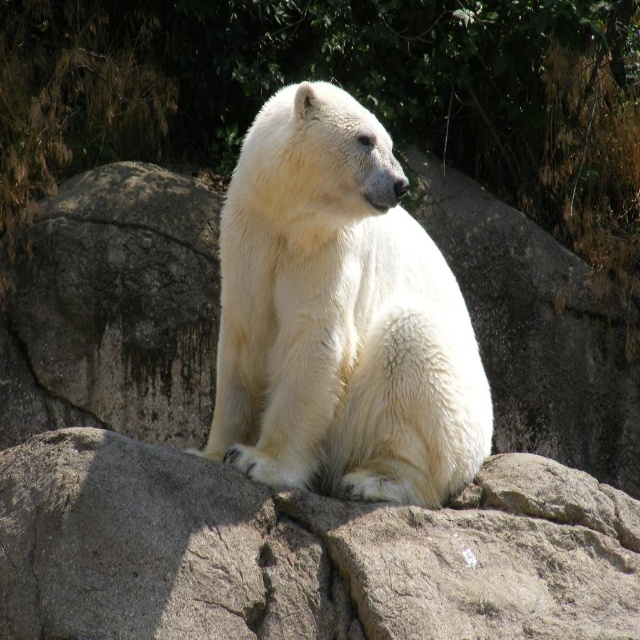Polar bear: (184, 79, 497, 513)
